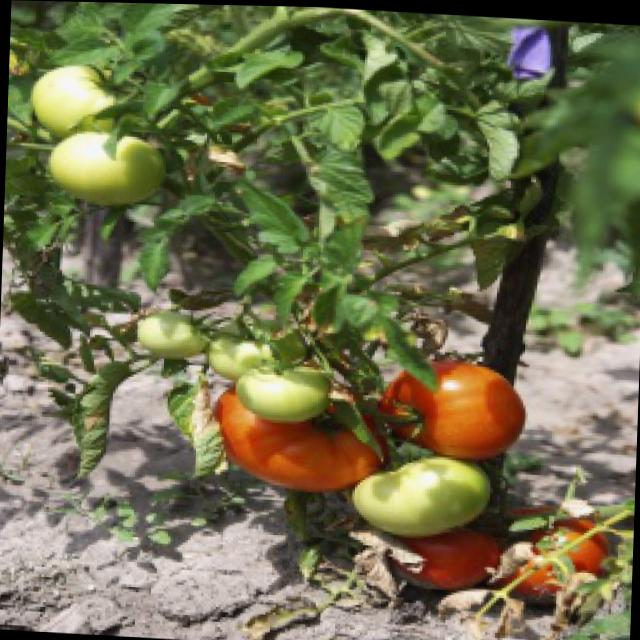tomato: (212, 391, 385, 497), (375, 353, 529, 461), (358, 520, 504, 593)
